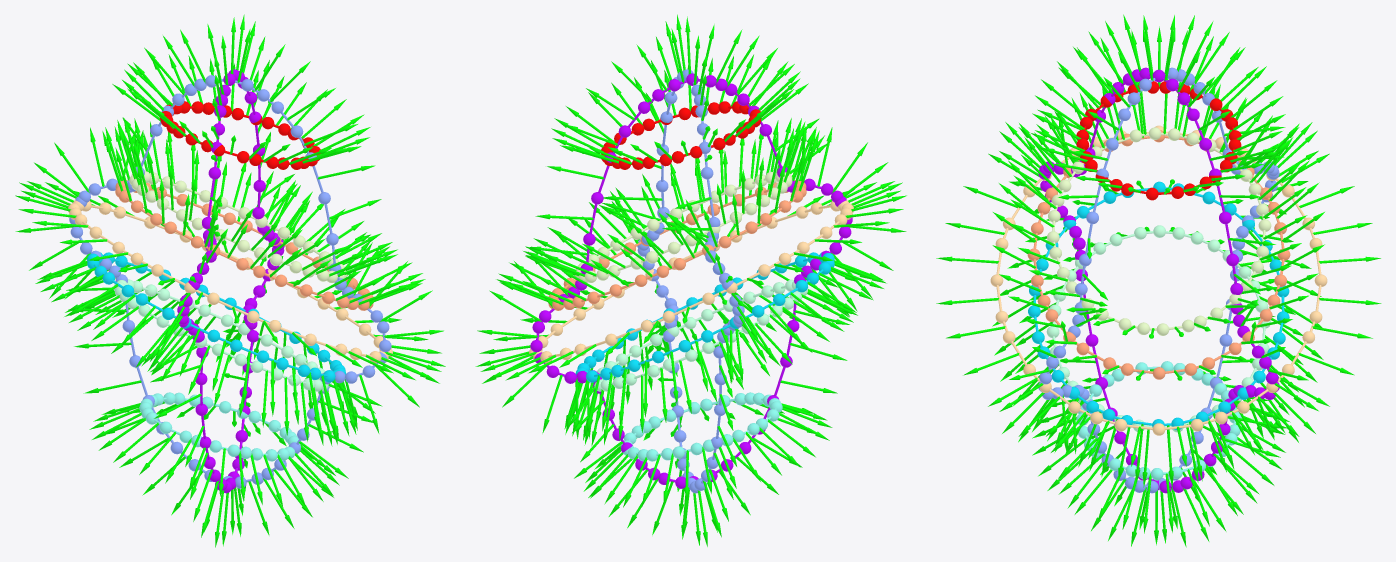
Rendered from flowrep_ellipsetorus.gltf.
3 renders of one model, left to right at view 1: azimuth 30°, elevation 25°; view 2: azimuth 150°, elevation 25°; view 3: azimuth 270°, elevation 25°, orthographic.
Bounding box in the file's own units: 0.6783 × 0.8999 × 0.6988.
